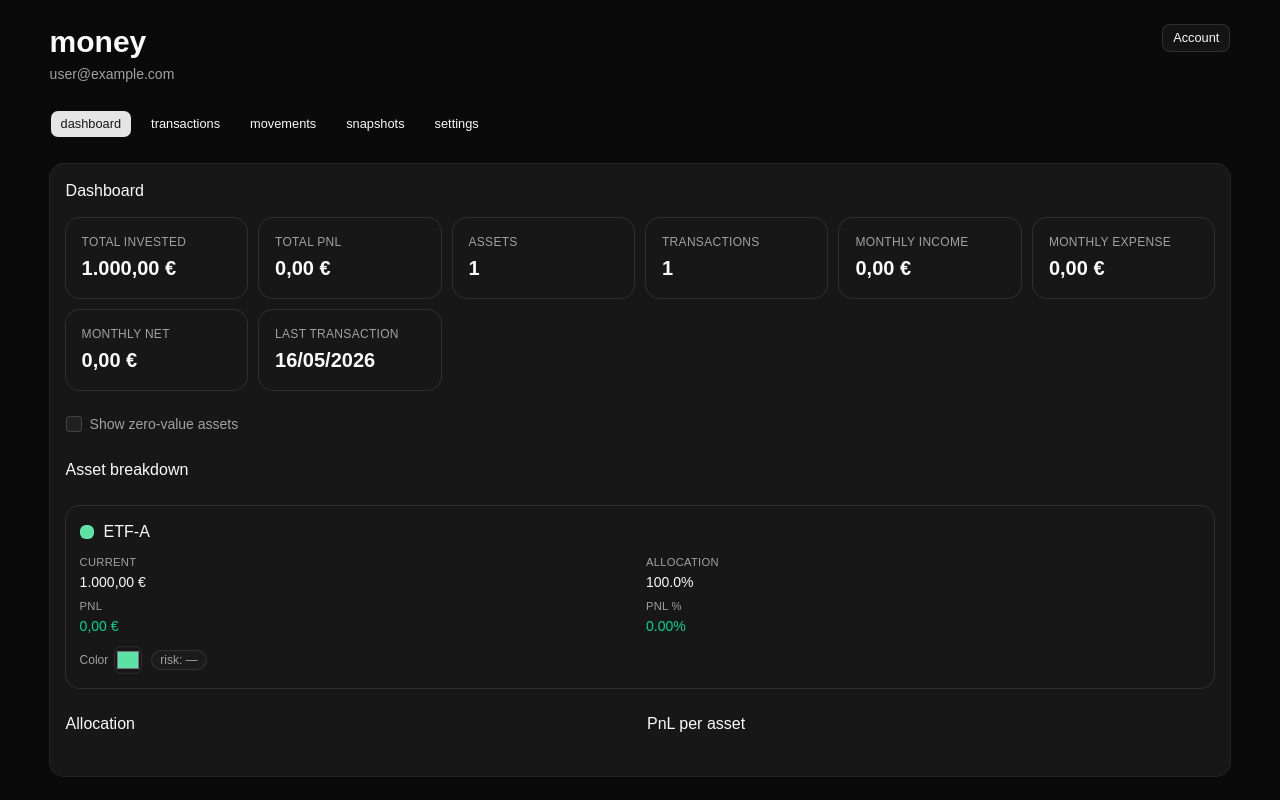
Test: Transactions form dynamic fields (issue #51) › asset combobox Escape closes the list
The width and height of the screenshot is (1280, 800).
Expected: the heading "Dashboard" is shown, [66,182,144,199]
Click the link "transactions". click: (186, 124)
box: [151,116,220,131]
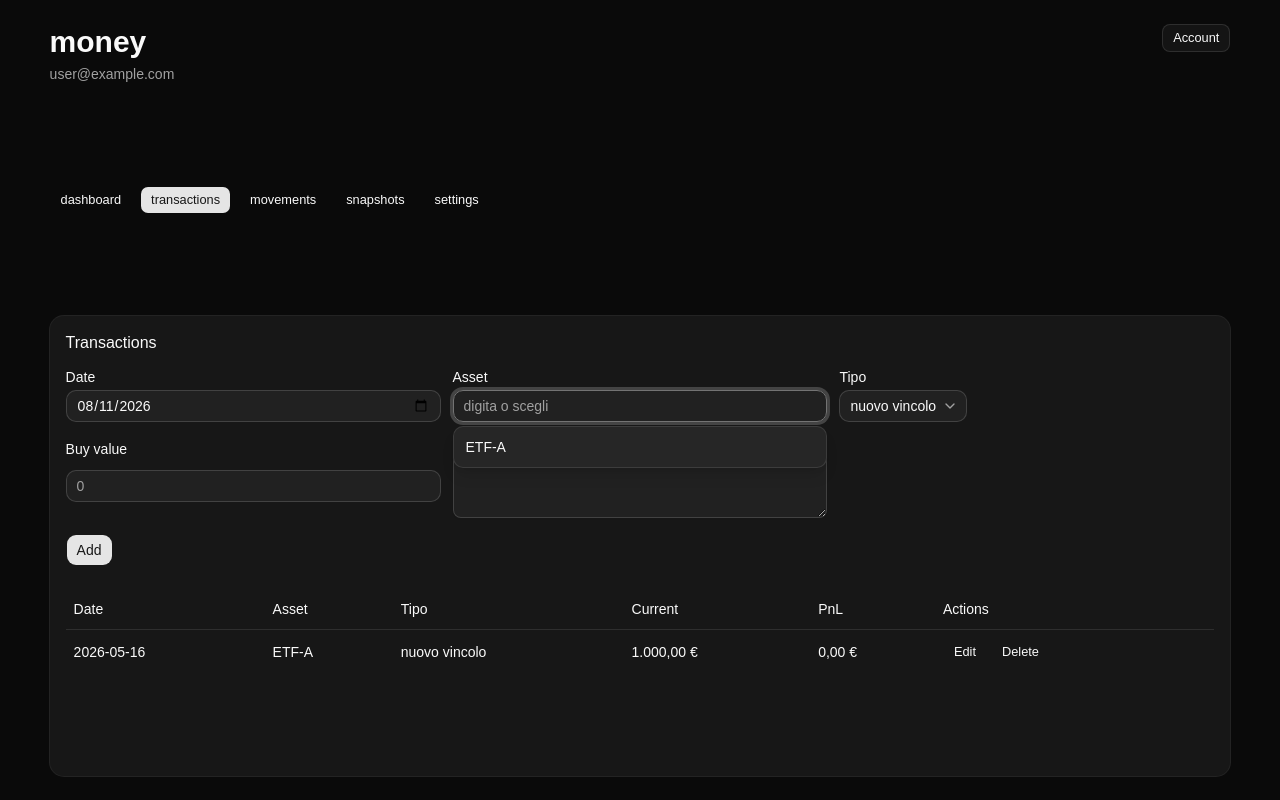
Expected: the list is shown, [452,426,827,468]
Press Escape
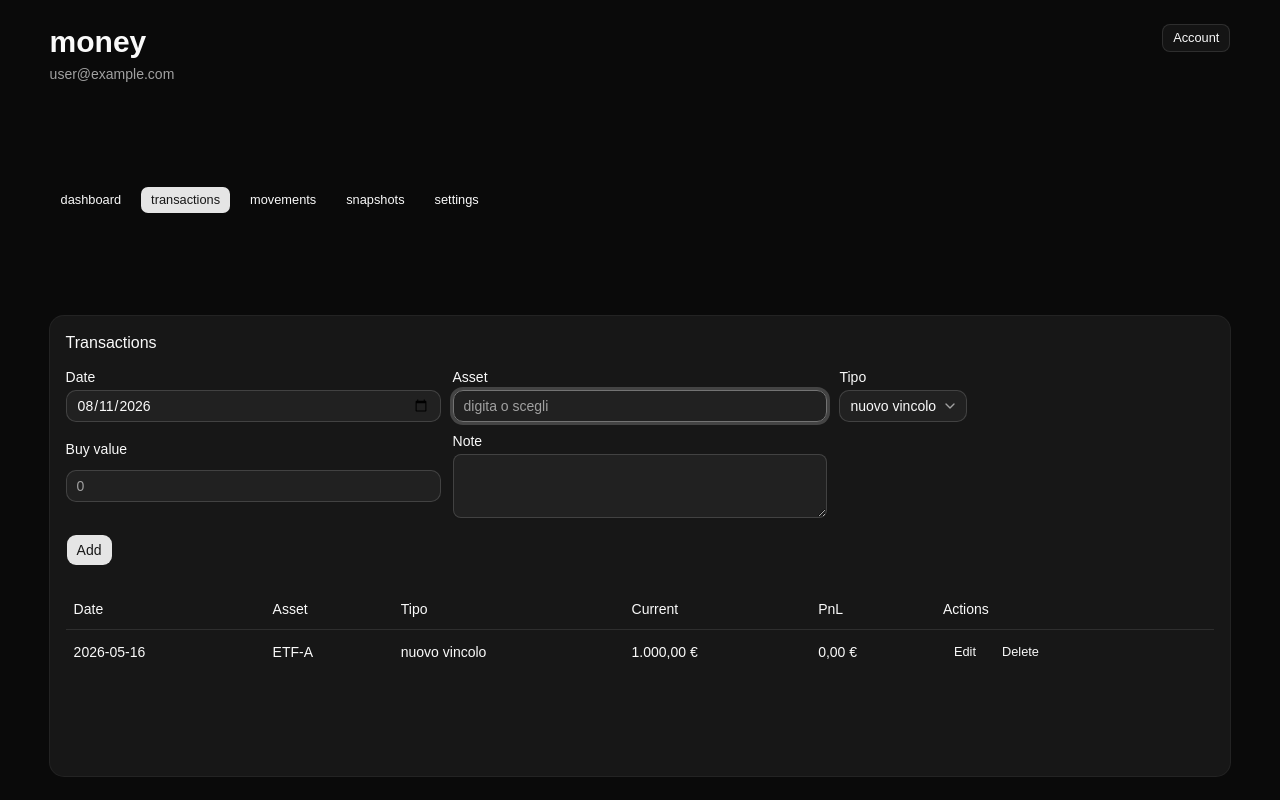
Expected: the list is gone
